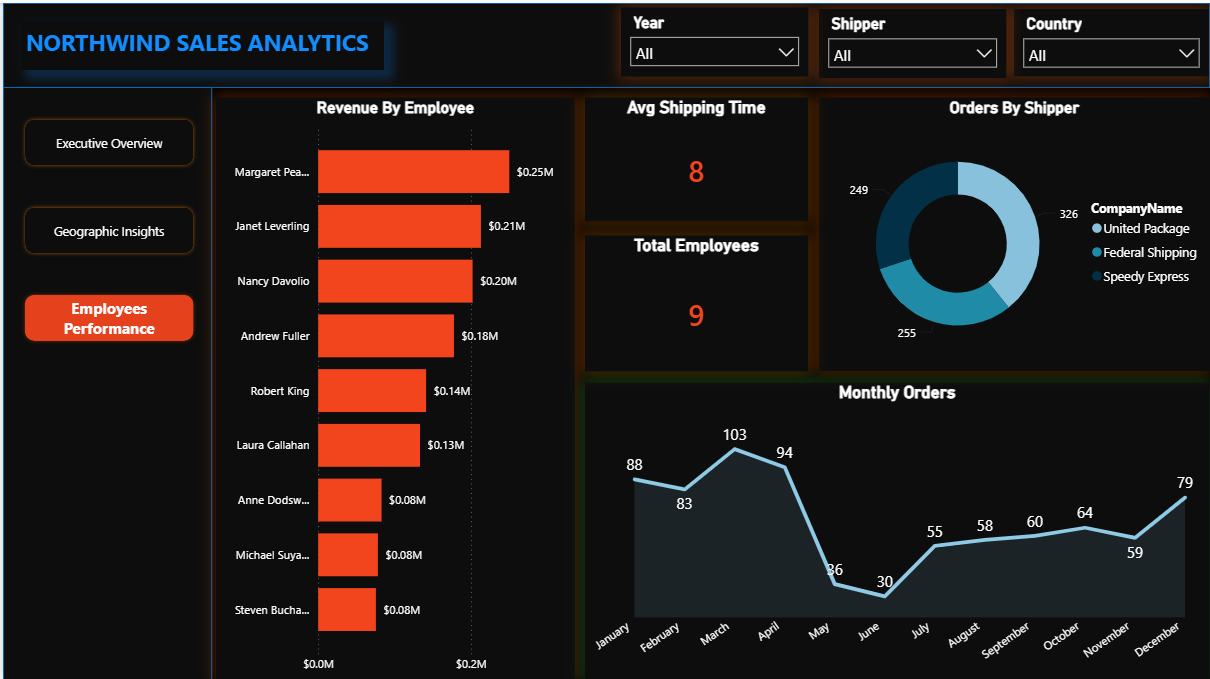

Layout of this report page (visuals, bound fields, positions):
{"tool":"powerbi","page":{"name":"Employees & Shipping","canvas":[1280,720],"ordinal":2},"visuals":[{"type":"shape","box":[0,0,1280,90],"z":0},{"type":"shape","box":[0,89.1,221.8,629.9],"z":1000},{"type":"clusteredBarChart","title":"Revenue By Employee ","fields":{"Y":["Sum(OrderDetails.Total Sales)"],"Category":["Employees.Name"]},"box":[225.1,100.4,380.5,618.5],"z":2000},{"type":"lineChart","title":"Monthly Orders","fields":{"Y":["CountNonNull(Orders.OrderID)"],"Category":["Orders.OrderDate.Variation.Date Hierarchy.Month"]},"box":[616.9,403.2,662.3,315.7],"z":3000},{"type":"textbox","box":[19.4,19.4,385.4,51.8],"z":4000},{"type":"donutChart","title":"Orders By Shipper","fields":{"Category":["Shippers.CompanyName"],"Y":["CountNonNull(Orders.ShipVia)"]},"box":[864.7,100.4,414.5,289.8],"z":5000},{"type":"textbox","box":[11.3,100.4,200.8,61.5],"z":6000},{"type":"cardVisual","title":"Avg Shipping Time","fields":{"Data":["Avg(vw_AvgTime.AvgShippingDays)"]},"box":[616.9,100.4,236.4,131.2],"z":7000},{"type":"cardVisual","title":"Total Employees","fields":{"Data":["CountNonNull(Employees.EmployeeID)"]},"box":[616.9,246.1,236.4,144.1],"z":8000},{"type":"pageNavigator","box":[505.2,19.4,709.2,50.2],"z":9000},{"type":"slicer","fields":{"Values":["Suppliers.Country"]},"box":[6.5,390.2,212.1,103.6],"z":10000},{"type":"slicer","fields":{"Values":["Shippers.CompanyName"]},"box":[6.5,514.9,212.1,92.3],"z":11000},{"type":"advancedSlicerVisual","fields":{"Values":["Orders.OrderDate.Variation.Date Hierarchy.Year"]},"box":[8.1,187.8,207.3,181.4],"z":12000}]}

Visuals, with their boxes in screenshot pixels (x1, y1, x2, y2), scaled from the page's 1280x720 canvas onto the 1210x679 screenshot:
shape: select_region(0, 0, 1209, 85)
shape: select_region(0, 84, 210, 678)
"Revenue By Employee " clusteredBarChart: select_region(213, 95, 572, 678)
"Monthly Orders" lineChart: select_region(583, 380, 1209, 678)
textbox: select_region(18, 18, 383, 67)
"Orders By Shipper" donutChart: select_region(817, 95, 1209, 368)
textbox: select_region(11, 95, 201, 153)
"Avg Shipping Time" cardVisual: select_region(583, 95, 807, 218)
"Total Employees" cardVisual: select_region(583, 232, 807, 368)
pageNavigator: select_region(478, 18, 1148, 66)
slicer - Suppliers.Country: select_region(6, 368, 207, 466)
slicer - Shippers.CompanyName: select_region(6, 486, 207, 573)
advancedSlicerVisual - Orders.OrderDate.Variation.Date Hierarchy.Year: select_region(8, 177, 204, 348)
